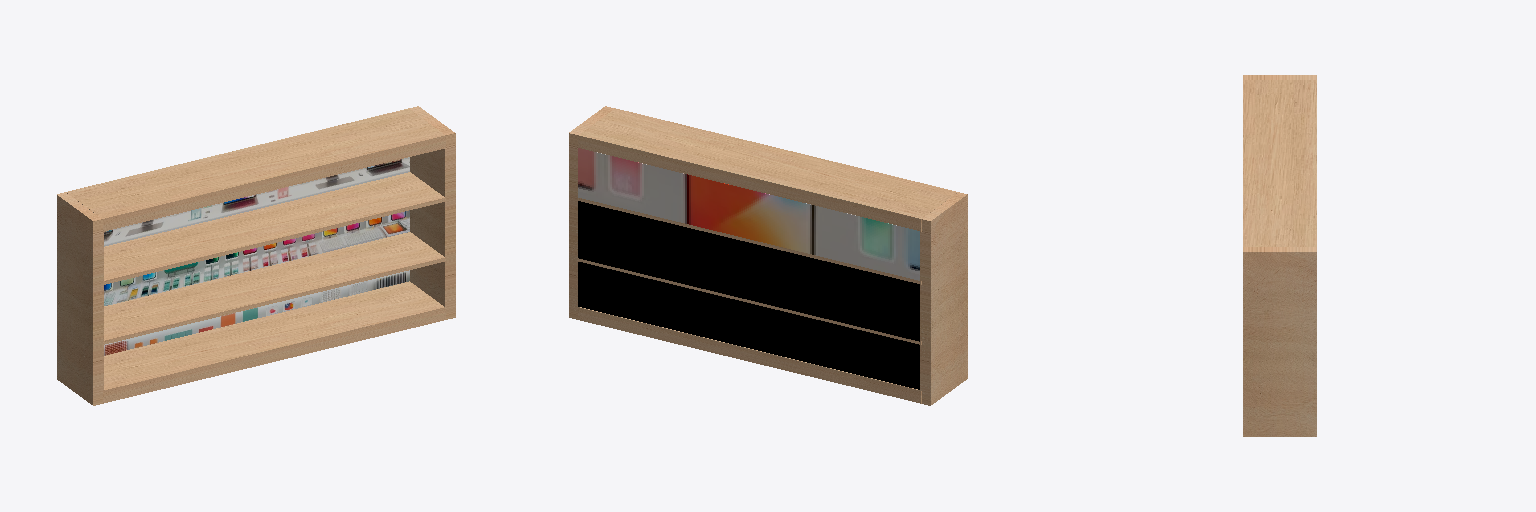
The picture shows the model from 3 angles: view 1: azimuth 30°, elevation 25°; view 2: azimuth 150°, elevation 25°; view 3: azimuth 270°, elevation 25°; orthographic projection.
Parts seen in each view (by area): view 1: pasted__pCube1 group3, pCube1, pasted__pasted__pCube1 pasted__group5 group6, pasted__pCube1 group5, pasted__pasted__pasted__pCube2 pasted__pasted__group pasted__gro, pasted__pCube2 group7, pasted__pasted__pCube2 pasted__group group1, pCube2, pasted__pasted__pCube2 pasted__group7 group8; view 2: pasted__pCube2 group7, pCube2, pasted__pCube1 group3, pasted__pasted__pCube2 pasted__group7 group8, pasted__pasted__pasted__pCube2 pasted__pasted__group pasted__gro, pCube1, pasted__pasted__pCube2 pasted__group group1, pasted__pCube1 group5, pasted__pasted__pCube1 pasted__group5 group6; view 3: pasted__pasted__pCube2 pasted__group group1, pasted__pCube1 group3.
Boxes of the visible parts, <box> form: pasted__pCube1 group3: <box>66,108,445,231</box>; pCube1: <box>103,281,445,403</box>; pasted__pasted__pCube1 pasted__group5 group6: <box>103,232,445,344</box>; pasted__pCube1 group5: <box>103,172,445,284</box>; pasted__pasted__pasted__pCube2 pasted__pasted__group pasted__gro: <box>57,192,103,405</box>; pasted__pCube2 group7: <box>104,210,409,305</box>; pasted__pasted__pCube2 pasted__group group1: <box>409,106,455,319</box>; pCube2: <box>104,157,409,246</box>; pasted__pasted__pCube2 pasted__group7 group8: <box>104,270,409,355</box>; pasted__pCube2 group7: <box>578,201,919,341</box>; pCube2: <box>578,148,919,280</box>; pasted__pCube1 group3: <box>578,108,957,231</box>; pasted__pasted__pCube2 pasted__group7 group8: <box>578,262,919,389</box>; pasted__pasted__pasted__pCube2 pasted__pasted__group pasted__gro: <box>920,192,967,405</box>; pCube1: <box>578,307,921,403</box>; pasted__pasted__pCube2 pasted__group group1: <box>569,106,614,319</box>; pasted__pCube1 group5: <box>578,198,921,284</box>; pasted__pasted__pCube1 pasted__group5 group6: <box>578,258,921,344</box>; pasted__pasted__pCube2 pasted__group group1: <box>1243,247,1316,436</box>; pasted__pCube1 group3: <box>1243,80,1316,246</box>.
Bounding box in the file's own units: 3.15 × 1.54 × 0.5576.
Materials: 10 (4 with a texture image).